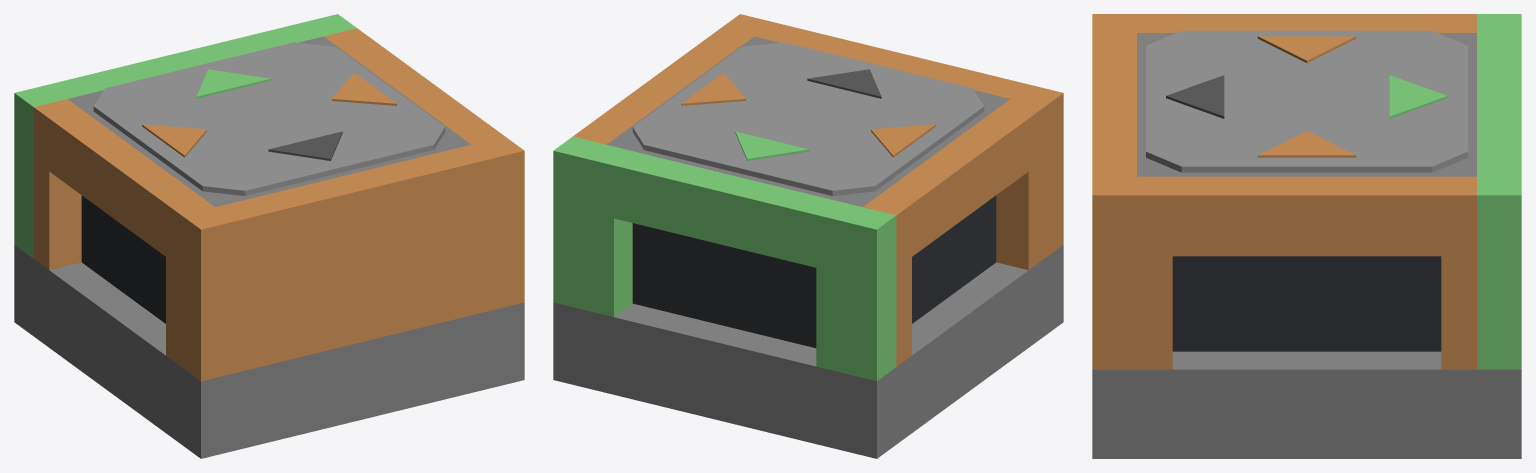
File: vfef_merger2_t.obj
3 views of the same model, side by side, from view 1: azimuth 30°, elevation 25°; view 2: azimuth 150°, elevation 25°; view 3: azimuth 270°, elevation 25° (orthographic). The views are drawn at different scales.
Parts seen in each view (by area): view 1: vfef_merger2_t_10, vfef_merger2_t_0, vfef_merger2_t_19, vfef_merger2_t_13, vfef_merger2_t_15, vfef_merger2_t_17, vfef_merger2_t_12, vfef_merger2_t_14, vfef_merger2_t_8, vfef_merger2_t_16, vfef_merger2_t_4, vfef_merger2_t_1 (+10 smaller); view 2: vfef_merger2_t_0, vfef_merger2_t_19, vfef_merger2_t_5, vfef_merger2_t_4, vfef_merger2_t_13, vfef_merger2_t_16, vfef_merger2_t_3, vfef_merger2_t_18, vfef_merger2_t_11, vfef_merger2_t_14, vfef_merger2_t_2, vfef_merger2_t_10 (+11 smaller); view 3: vfef_merger2_t_0, vfef_merger2_t_19, vfef_merger2_t_9, vfef_merger2_t_8, vfef_merger2_t_17, vfef_merger2_t_18, vfef_merger2_t_6, vfef_merger2_t_7, vfef_merger2_t_10, vfef_merger2_t_4, vfef_merger2_t_1, vfef_merger2_t_13 (+10 smaller).
Boxes of the visible parts, x1,y1,x2,y2 form: vfef_merger2_t_10: (215, 144, 490, 372); vfef_merger2_t_0: (14, 245, 524, 458); vfef_merger2_t_19: (93, 42, 445, 195); vfef_merger2_t_13: (49, 110, 199, 256); vfef_merger2_t_15: (181, 207, 234, 381); vfef_merger2_t_17: (472, 136, 524, 310); vfef_merger2_t_12: (33, 99, 82, 270); vfef_merger2_t_14: (81, 195, 165, 323); vfef_merger2_t_8: (339, 39, 488, 133); vfef_merger2_t_16: (14, 85, 66, 258); vfef_merger2_t_4: (75, 29, 294, 92); vfef_merger2_t_1: (68, 36, 470, 206); vfef_merger2_t_0: (553, 245, 1063, 458); vfef_merger2_t_19: (632, 42, 984, 195); vfef_merger2_t_5: (632, 223, 816, 348); vfef_merger2_t_4: (614, 151, 834, 267); vfef_merger2_t_13: (878, 110, 1028, 256); vfef_merger2_t_16: (843, 207, 896, 381); vfef_merger2_t_3: (587, 144, 632, 316); vfef_merger2_t_18: (553, 136, 605, 310); vfef_merger2_t_11: (995, 99, 1044, 270); vfef_merger2_t_14: (912, 195, 996, 323); vfef_merger2_t_2: (816, 200, 862, 372); vfef_merger2_t_10: (754, 22, 1029, 98); vfef_merger2_t_0: (1092, 351, 1521, 458); vfef_merger2_t_19: (1146, 30, 1467, 172); vfef_merger2_t_9: (1172, 256, 1441, 351); vfef_merger2_t_8: (1172, 176, 1441, 256); vfef_merger2_t_17: (1092, 176, 1136, 369); vfef_merger2_t_18: (1477, 176, 1521, 369); vfef_merger2_t_6: (1137, 176, 1172, 369); vfef_merger2_t_7: (1441, 176, 1476, 369); vfef_merger2_t_10: (1092, 33, 1136, 176); vfef_merger2_t_4: (1477, 48, 1521, 161); vfef_merger2_t_1: (1137, 33, 1476, 176); vfef_merger2_t_13: (1172, 14, 1441, 32).
Bounding box in the file's own units: 0.96 × 0.672 × 0.96.
